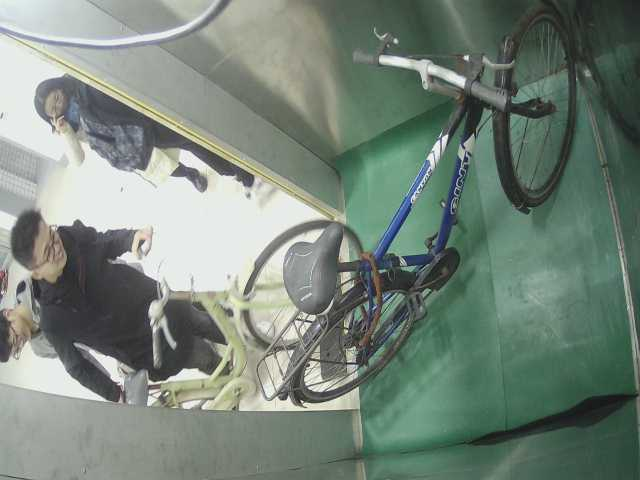bicycle: (253, 4, 577, 414), (113, 225, 391, 411)
person: (9, 202, 233, 365), (25, 71, 245, 201)
